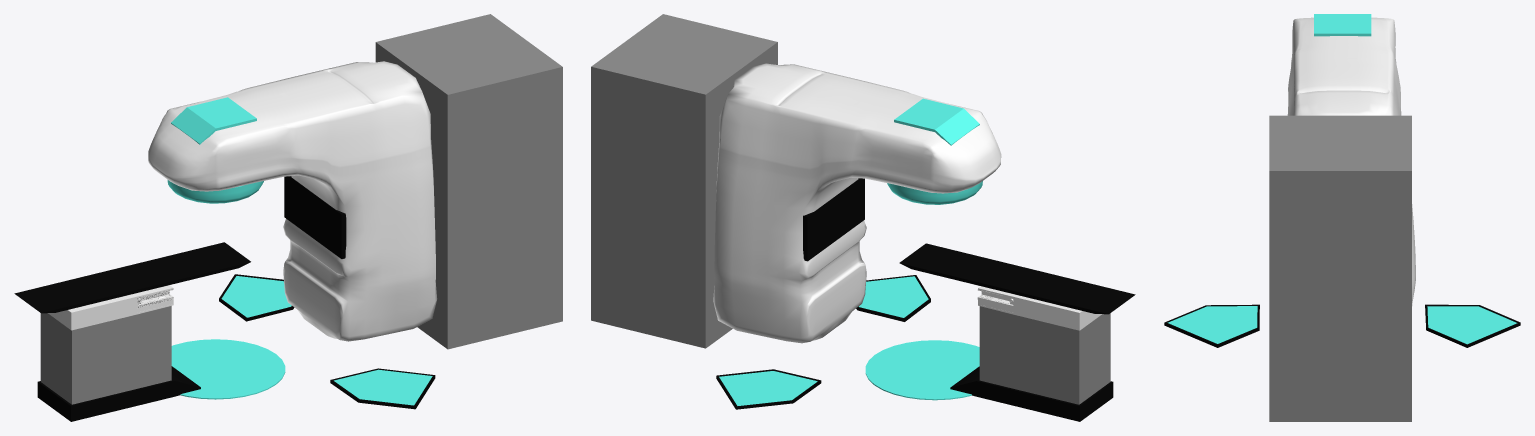
Rendered from radio.glb.
3 renders of one model, left to right at view 1: azimuth 30°, elevation 25°; view 2: azimuth 150°, elevation 25°; view 3: azimuth 270°, elevation 25°, orthographic.
Visible parts, largest first — view 1: Macchinario_1_Corpo.001, Macchinario_1_Retro, Macchinario_1, Macchinario_1_Cilindro, Macchinario_1_Schermo, Macchinario_1_floorDx1, Macchinario_1_Extra, Macchinario_1_floorSx1, Macchinario_1_Torus, Macchinario_1_floorDx, Macchinario_1_floorSx; view 2: Macchinario_1_Corpo.001, Macchinario_1_Retro, Macchinario_1, Macchinario_1_Cilindro, Macchinario_1_Schermo, Macchinario_1_floorSx1, Macchinario_1_Extra, Macchinario_1_floorDx1, Macchinario_1_Torus, Macchinario_1_floorSx, Macchinario_1_floorDx; view 3: Macchinario_1_Retro, Macchinario_1_Corpo.001, Macchinario_1_floorSx1, Macchinario_1_floorDx1, Macchinario_1_Extra, Macchinario_1_floorSx, Macchinario_1_floorDx.
Boxes of the visible parts, x1,y1,x2,y2 form: Macchinario_1_Corpo.001: (148, 61, 437, 341); Macchinario_1_Retro: (375, 14, 562, 349); Macchinario_1: (14, 242, 250, 421); Macchinario_1_Cilindro: (171, 339, 285, 399); Macchinario_1_Schermo: (284, 176, 346, 258); Macchinario_1_floorDx1: (334, 369, 432, 405); Macchinario_1_Extra: (171, 97, 256, 144); Macchinario_1_floorSx1: (221, 276, 291, 317); Macchinario_1_Torus: (167, 180, 263, 203); Macchinario_1_floorDx: (330, 368, 435, 409); Macchinario_1_floorSx: (219, 274, 294, 321); Macchinario_1_Corpo.001: (713, 63, 1001, 343); Macchinario_1_Retro: (591, 14, 777, 348); Macchinario_1: (899, 243, 1135, 421); Macchinario_1_Cilindro: (865, 340, 979, 400); Macchinario_1_Schermo: (803, 178, 864, 261); Macchinario_1_floorSx1: (719, 371, 817, 405); Macchinario_1_Extra: (894, 98, 979, 145); Macchinario_1_floorDx1: (859, 276, 928, 317); Macchinario_1_Torus: (887, 181, 982, 204); Macchinario_1_floorSx: (716, 369, 821, 409); Macchinario_1_floorDx: (856, 275, 930, 321); Macchinario_1_Retro: (1269, 115, 1411, 421); Macchinario_1_Corpo.001: (1287, 17, 1415, 305); Macchinario_1_floorSx1: (1427, 306, 1517, 344); Macchinario_1_floorDx1: (1167, 306, 1257, 343); Macchinario_1_Extra: (1314, 14, 1371, 36); Macchinario_1_floorSx: (1425, 304, 1520, 347); Macchinario_1_floorDx: (1164, 304, 1259, 347).
Size of the model in its own units: 5.26 by 2.58 by 3.3.
